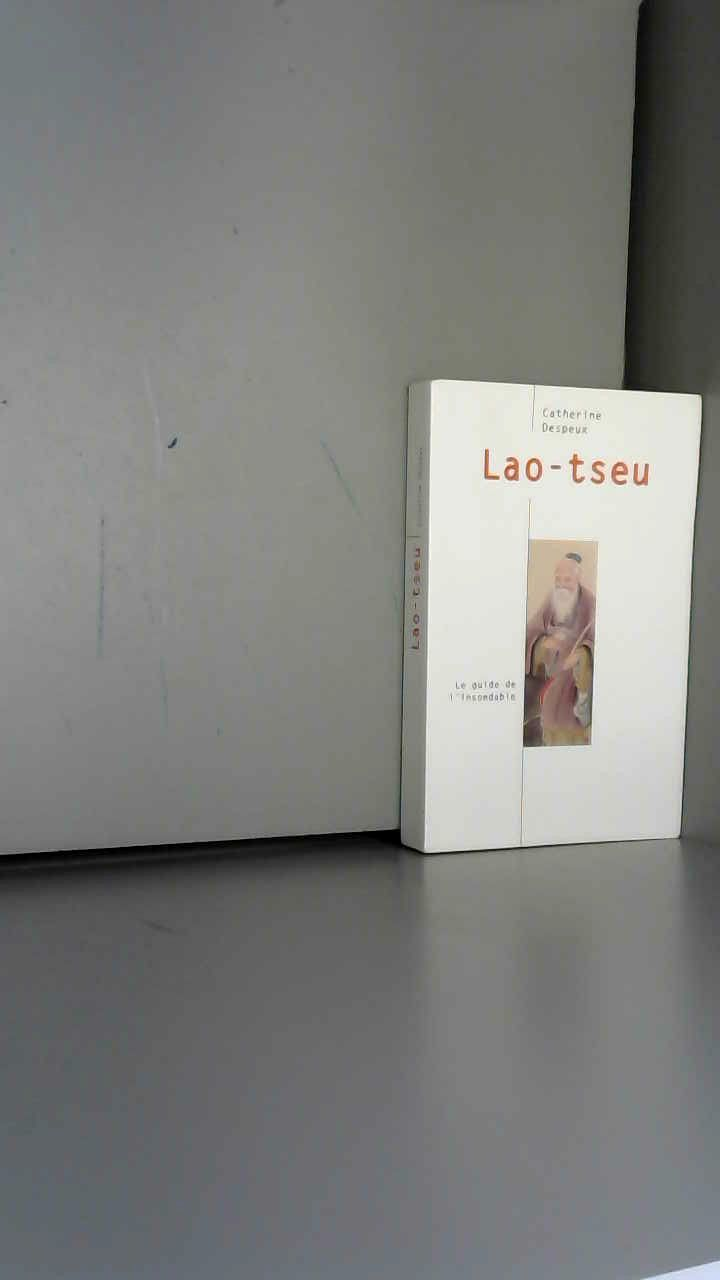book: (400, 350, 720, 913)
